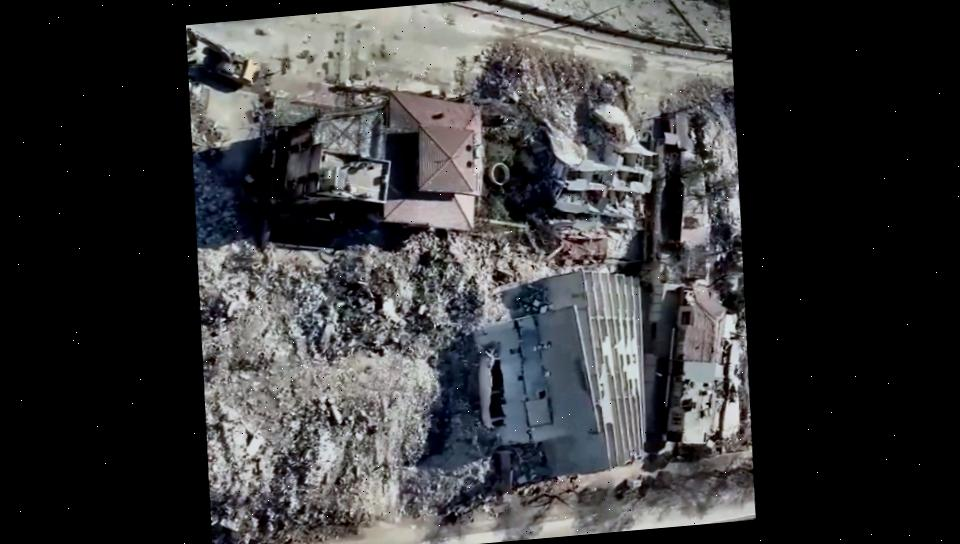kapali: (446, 3, 656, 135), (655, 52, 737, 144)
